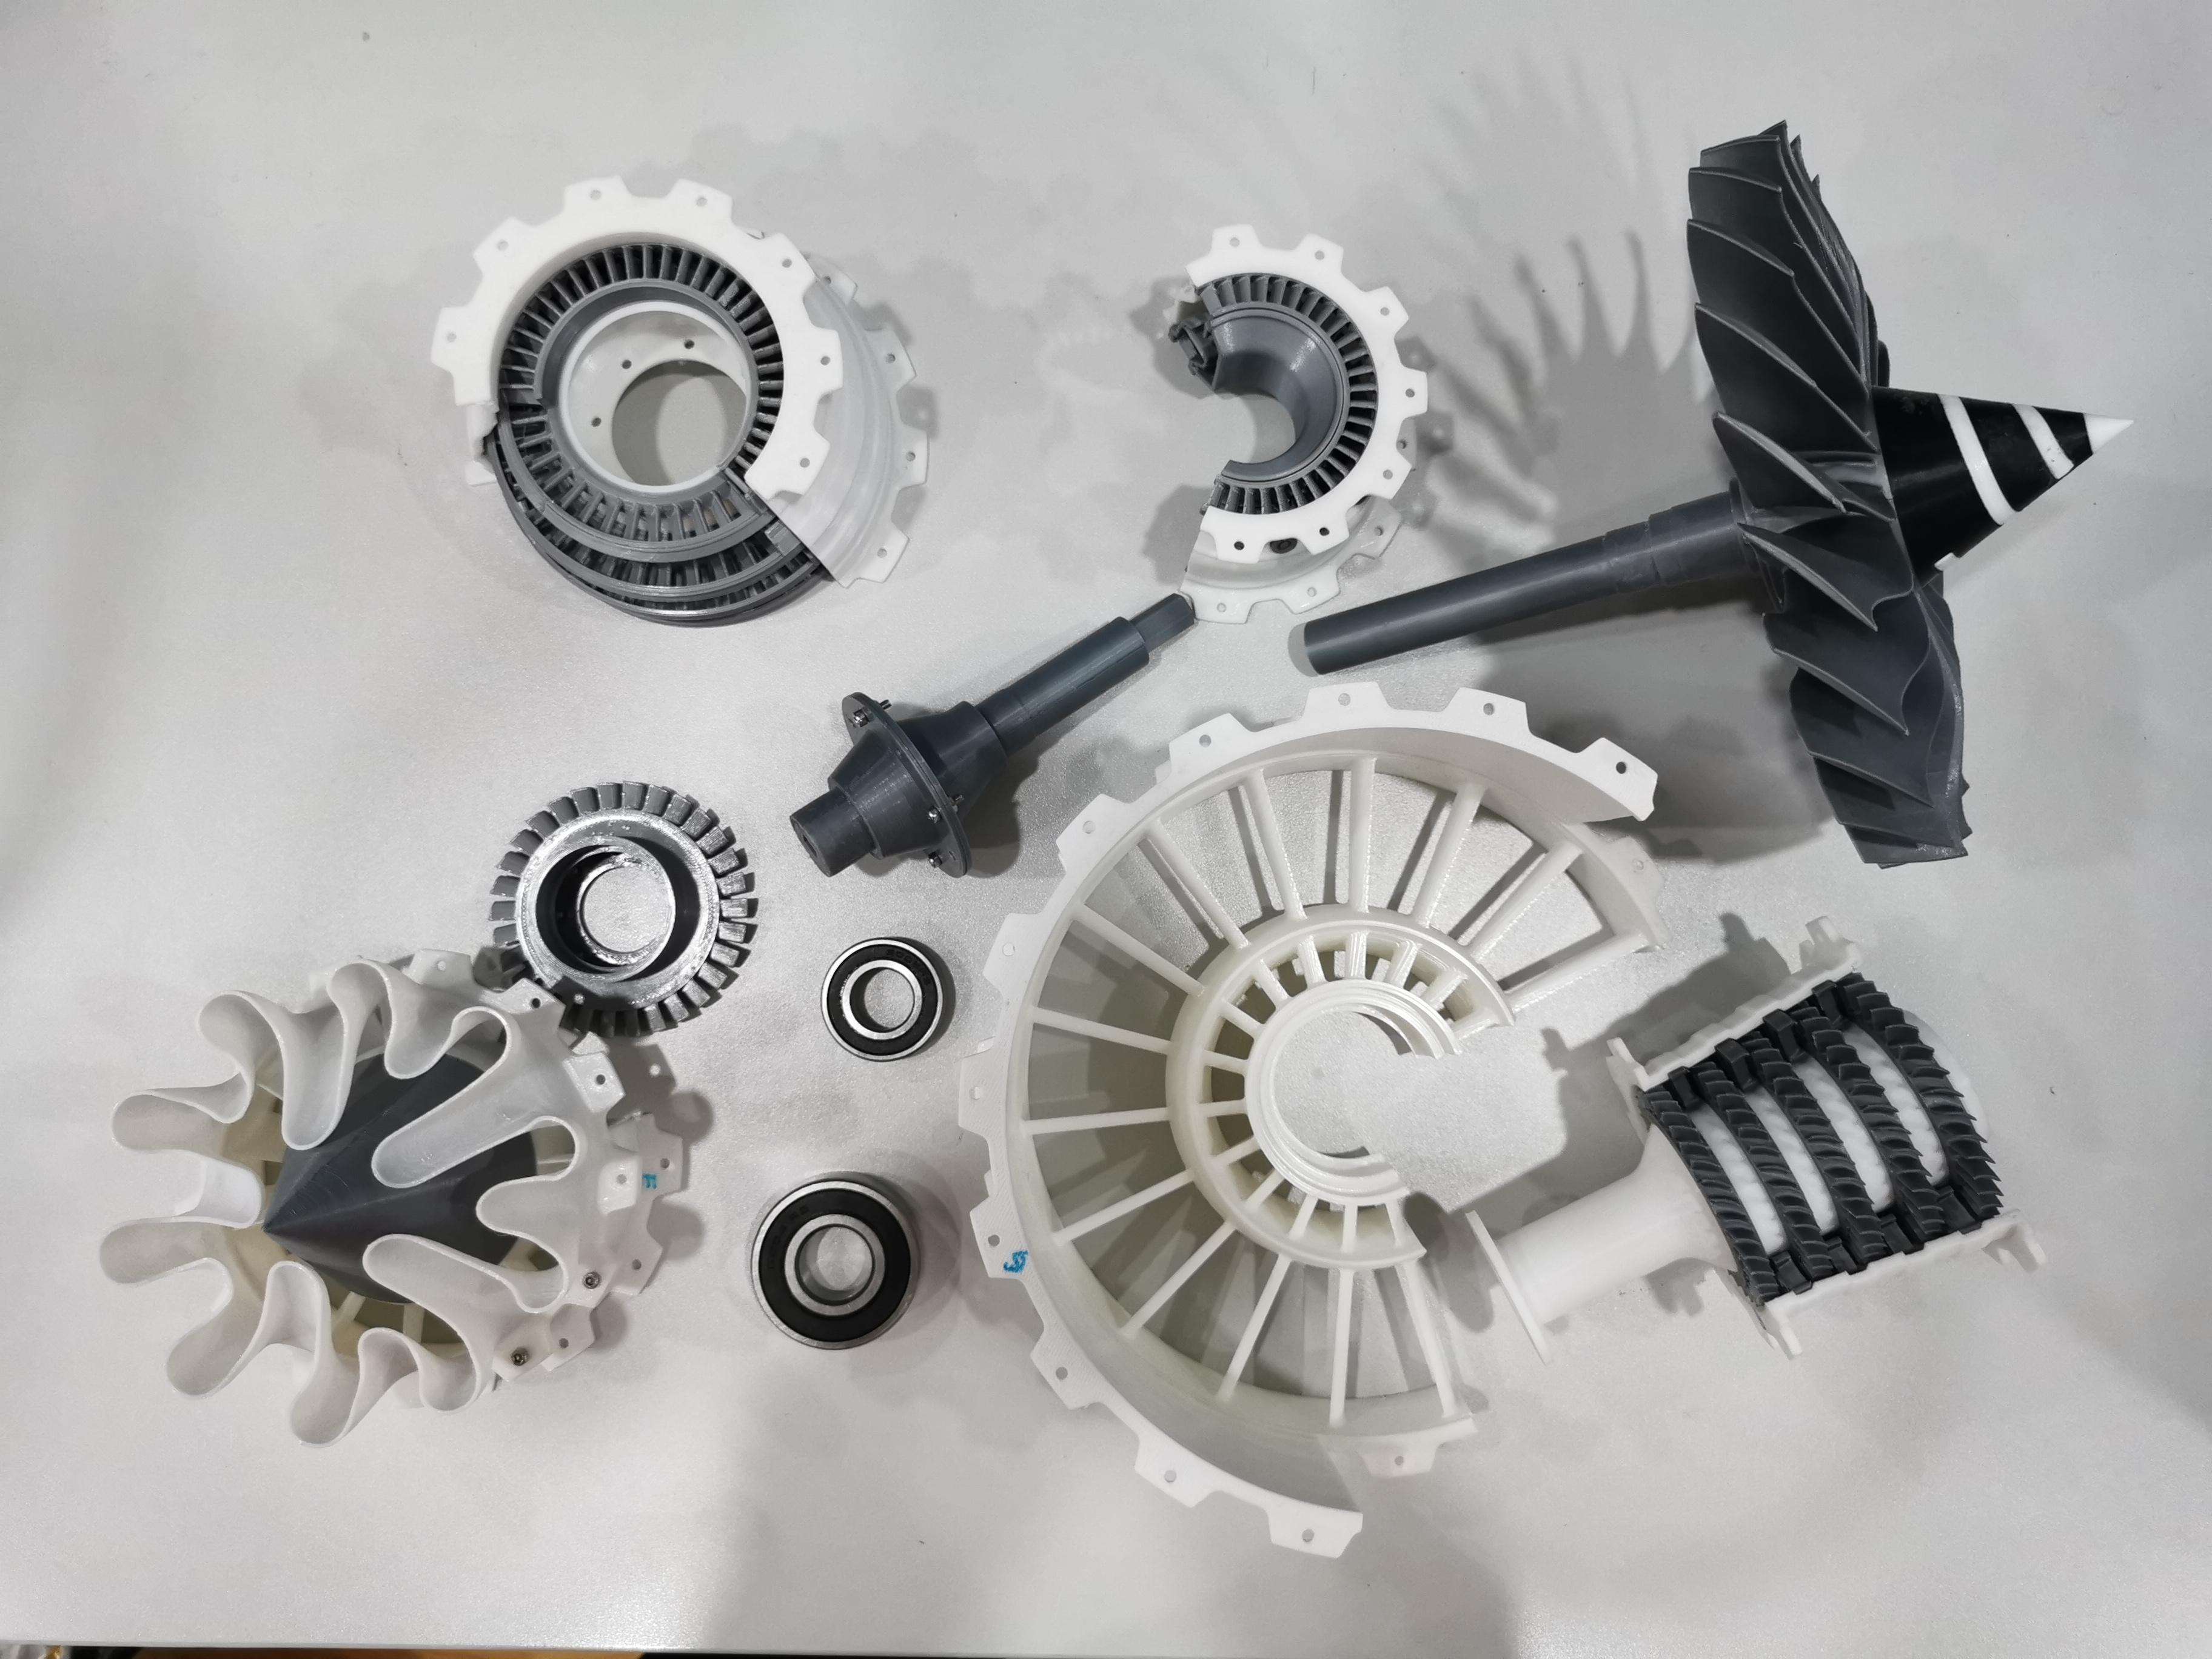Bearing-6003: (805, 927, 954, 1068)
Bearing-6204: (737, 1171, 941, 1366)
Combustion Section: (1143, 213, 1449, 629)
Fan Casing and Support: (948, 680, 1674, 1567)
Fan and Low Pressure Shaft: (1287, 118, 2144, 873)
HPT Section: (474, 774, 761, 1060)
High Pressure Spool: (1460, 904, 2054, 1378)
LPT Section: (421, 160, 941, 640)
Low Pressure Spool: (779, 589, 1207, 885)
Nozzle Section: (78, 931, 698, 1457)
